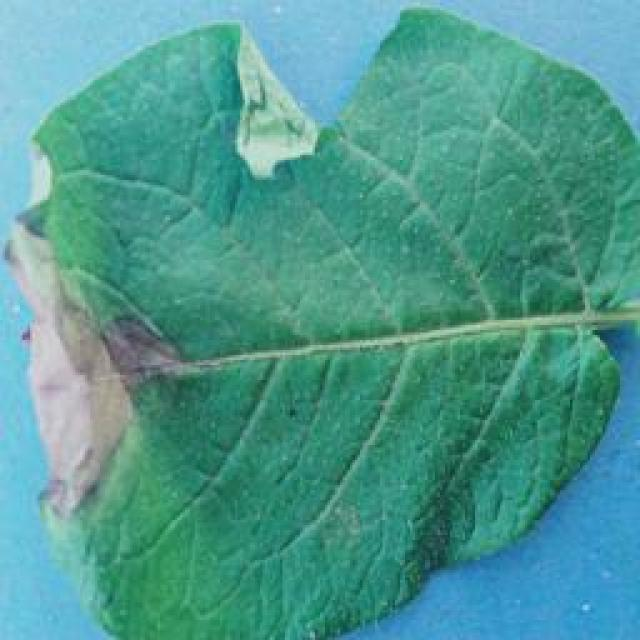Potato_Late_Blight: (23, 12, 632, 633)
